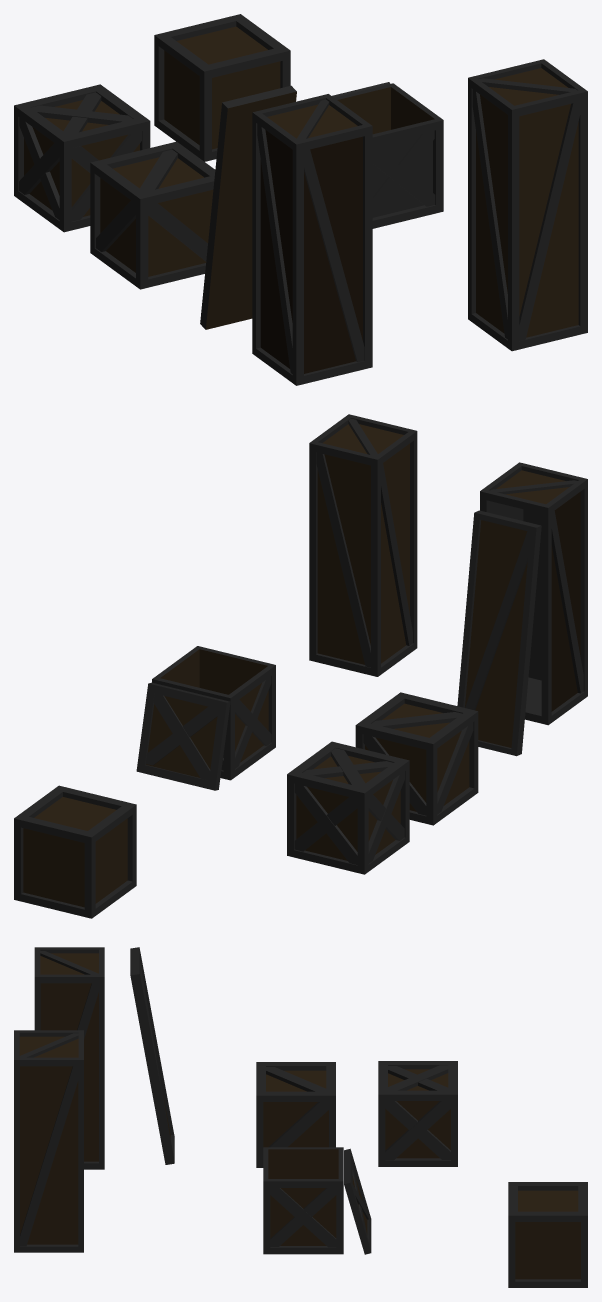
Rendered from boxes.fbx.
The picture shows the model from 3 angles, top to bottom: view 1: azimuth 30°, elevation 25°; view 2: azimuth 150°, elevation 25°; view 3: azimuth 270°, elevation 25°; orthographic projection. The views are drawn at different scales.
Parts seen in each view (by area): view 1: Tall_Box_2, Tall_Box, Box1, Box2, BOx4, Tall_Wood, Box3; view 2: Tall_Box, Tall_Box_2, Tall_Wood, Box2, BOx4, Box1, Box3, Box3_Wood; view 3: Tall_Box, Tall_Box_2, Box3, Box2, BOx4, Box1, Tall_Wood, Box3_Wood.
Boxes of the visible parts, x1,y1,x2,y2 form: Tall_Box_2: (252,94,372,385); Tall_Box: (468,59,587,351); Box1: (90,141,215,289); Box2: (14,84,150,232); BOx4: (154,14,290,161); Tall_Wood: (200,85,296,329); Box3: (334,83,443,228); Tall_Box: (309,414,417,676); Tall_Box_2: (480,462,587,725); Tall_Wood: (457,510,541,756); Box2: (287,741,409,874); BOx4: (14,785,136,918); Box1: (355,692,478,825); Box3: (152,646,275,780); Box3_Wood: (136,682,230,790); Tall_Box: (14,1030,83,1252); Tall_Box_2: (34,947,104,1169); Box3: (263,1147,343,1254); Box2: (378,1061,457,1166); BOx4: (508,1182,587,1287); Box1: (256,1062,335,1167); Tall_Wood: (130,947,174,1164); Box3_Wood: (344,1148,371,1254).
Size of the model in its own units: 178 by 157 by 360.
